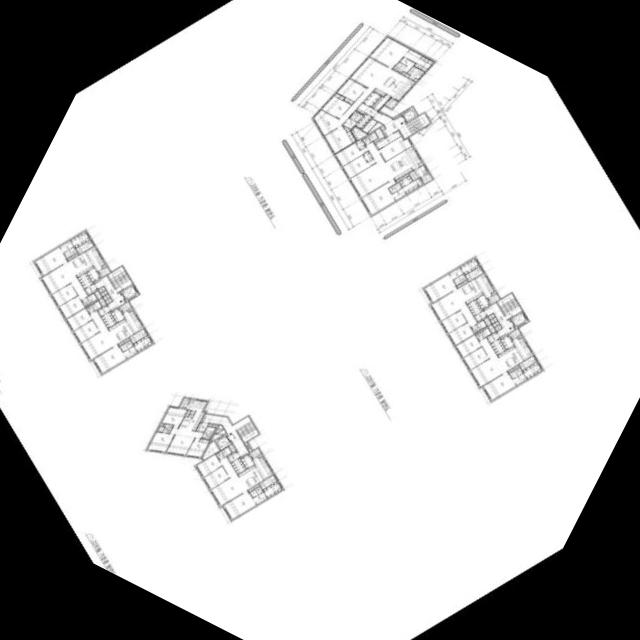background: (0, 0, 640, 640)
space_balconi: (420, 172, 432, 184), (248, 448, 261, 459), (384, 98, 397, 108), (178, 398, 190, 408)
space_bedroom: (369, 36, 410, 68), (361, 179, 396, 215), (482, 371, 515, 401), (93, 344, 126, 374), (423, 273, 456, 302), (323, 125, 356, 154), (34, 246, 67, 275), (223, 491, 255, 520), (378, 136, 412, 161), (320, 92, 351, 118), (334, 143, 368, 166), (336, 78, 366, 104), (342, 155, 375, 178), (455, 335, 481, 358), (462, 347, 488, 370), (440, 310, 466, 333), (447, 322, 473, 345), (203, 466, 229, 489), (73, 320, 99, 343), (51, 283, 77, 306), (58, 295, 84, 318), (195, 454, 221, 477), (160, 406, 187, 428), (66, 308, 91, 331), (146, 432, 174, 452), (185, 438, 209, 457), (355, 139, 365, 150), (363, 151, 372, 162)
space_dressroom: (459, 257, 479, 275), (70, 230, 90, 248), (413, 55, 434, 72), (522, 362, 542, 379), (262, 481, 282, 498), (133, 335, 152, 352), (402, 178, 422, 193), (399, 175, 412, 187)
space_elevator: (509, 311, 527, 328), (120, 284, 138, 301), (400, 107, 417, 122), (215, 434, 231, 449)
space_elevator_hall: (372, 106, 439, 138), (201, 414, 248, 456), (484, 302, 514, 337), (94, 275, 124, 310)
space_front: (374, 130, 401, 149), (354, 113, 372, 129), (356, 103, 377, 116), (363, 91, 380, 106), (490, 338, 505, 355), (77, 272, 92, 289), (101, 311, 116, 328), (467, 299, 482, 315), (226, 451, 239, 463), (486, 332, 499, 343), (84, 284, 97, 295), (474, 311, 486, 322), (97, 305, 109, 316), (195, 422, 207, 432)
space_kitchen: (373, 69, 415, 101), (384, 146, 421, 180), (497, 337, 533, 371), (108, 310, 143, 344), (238, 456, 273, 490), (456, 273, 494, 304), (67, 246, 105, 277), (178, 399, 207, 430), (476, 295, 489, 309), (500, 335, 513, 349), (86, 268, 99, 282), (110, 308, 123, 322)
space_living_room: (312, 57, 391, 135), (349, 142, 393, 198), (470, 337, 506, 387), (210, 456, 246, 506), (80, 310, 116, 360), (40, 262, 87, 300), (430, 289, 476, 327), (165, 428, 203, 455)
space_other: (371, 94, 390, 110), (202, 441, 218, 459), (409, 165, 428, 180), (518, 355, 537, 370), (75, 239, 94, 254), (465, 266, 483, 281), (129, 328, 147, 343), (259, 474, 277, 489), (230, 458, 245, 474), (407, 66, 424, 80), (361, 119, 377, 133), (240, 454, 253, 468), (352, 127, 367, 139), (210, 429, 225, 441), (367, 122, 382, 133), (373, 128, 384, 142), (396, 174, 408, 182), (248, 484, 259, 492), (456, 280, 467, 287), (507, 365, 518, 372), (67, 253, 78, 260), (118, 338, 129, 345), (215, 425, 223, 433), (483, 317, 490, 326), (94, 290, 101, 299), (244, 442, 251, 451), (98, 298, 105, 306), (488, 325, 495, 333), (228, 444, 235, 452), (401, 71, 409, 77), (492, 321, 499, 327), (98, 286, 105, 292), (100, 290, 107, 296), (494, 325, 501, 331), (392, 114, 400, 119), (490, 317, 496, 323), (488, 313, 494, 319), (103, 294, 109, 300), (105, 298, 111, 304), (343, 126, 350, 131), (185, 410, 190, 416), (207, 424, 217, 427), (418, 161, 423, 166), (380, 125, 384, 130), (413, 78, 417, 82), (258, 454, 262, 458), (128, 308, 132, 312), (517, 335, 522, 338), (159, 423, 163, 426)
space_outdoor_room: (97, 266, 110, 277), (487, 293, 499, 304), (508, 328, 520, 339), (119, 302, 131, 312)
space_staircase: (232, 416, 258, 442), (107, 266, 132, 292), (497, 293, 521, 319), (408, 117, 430, 134)
space_toilet: (392, 57, 414, 72), (249, 486, 266, 505), (404, 49, 422, 62), (85, 300, 101, 314), (470, 320, 486, 333), (475, 327, 491, 340), (81, 293, 97, 306), (215, 447, 231, 460), (362, 132, 377, 145), (59, 240, 73, 253), (201, 426, 215, 439), (391, 188, 405, 200), (449, 267, 463, 279), (512, 373, 526, 385), (123, 346, 137, 358), (157, 424, 173, 433), (343, 118, 356, 129), (349, 111, 359, 120), (353, 113, 363, 122), (393, 182, 401, 190), (453, 277, 461, 285), (458, 274, 466, 282), (509, 370, 517, 378), (514, 367, 522, 375), (388, 185, 396, 193), (68, 247, 76, 255), (124, 340, 132, 348), (119, 343, 127, 351), (63, 250, 71, 258)
